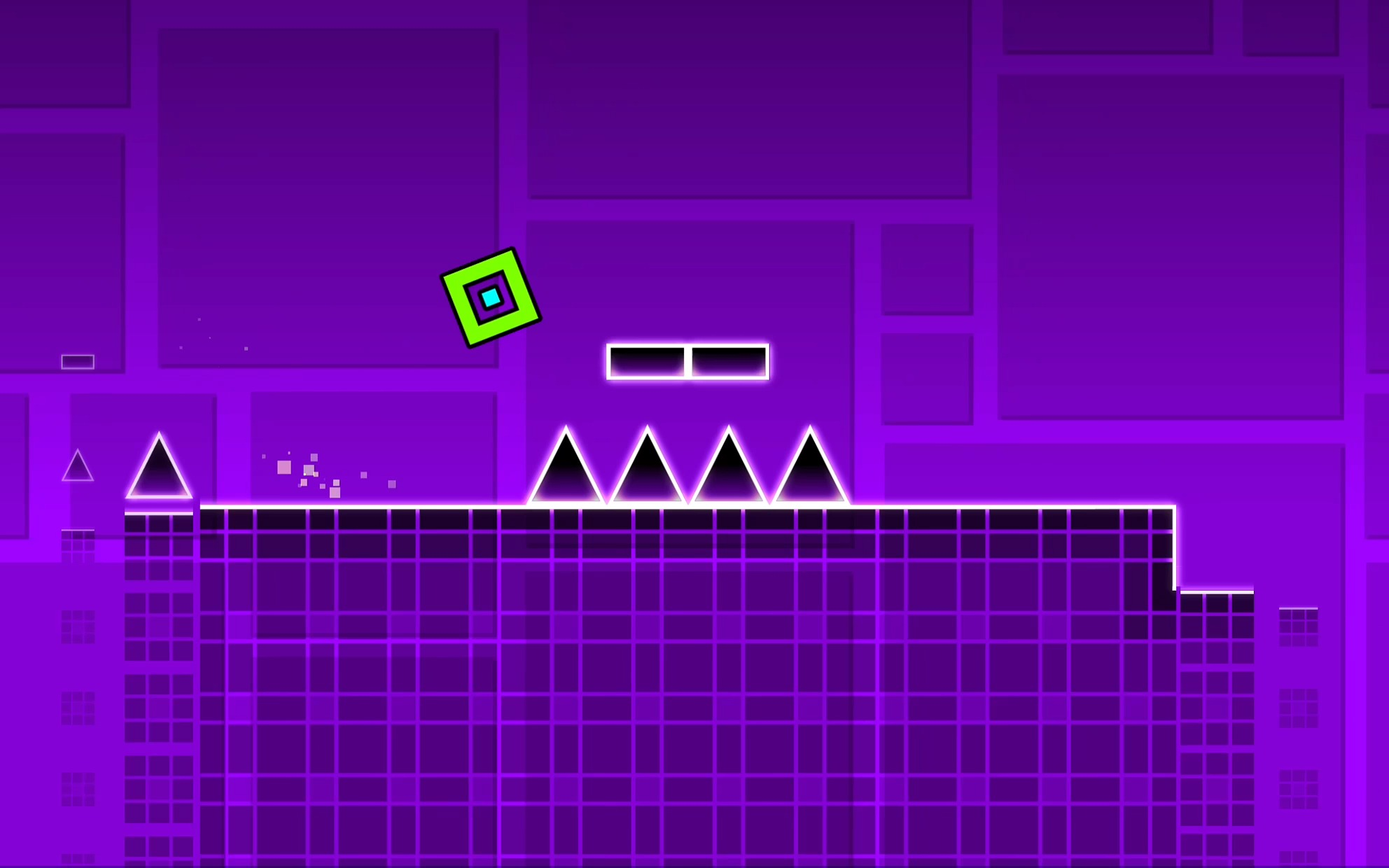Block2: (123, 505, 1182, 868), (1171, 585, 1328, 863)
Block3: (599, 343, 691, 382), (688, 345, 770, 383)
Player: (442, 247, 540, 347)
Spike: (772, 426, 849, 502), (529, 426, 603, 503), (693, 426, 765, 502), (612, 426, 683, 500), (126, 431, 192, 499)
